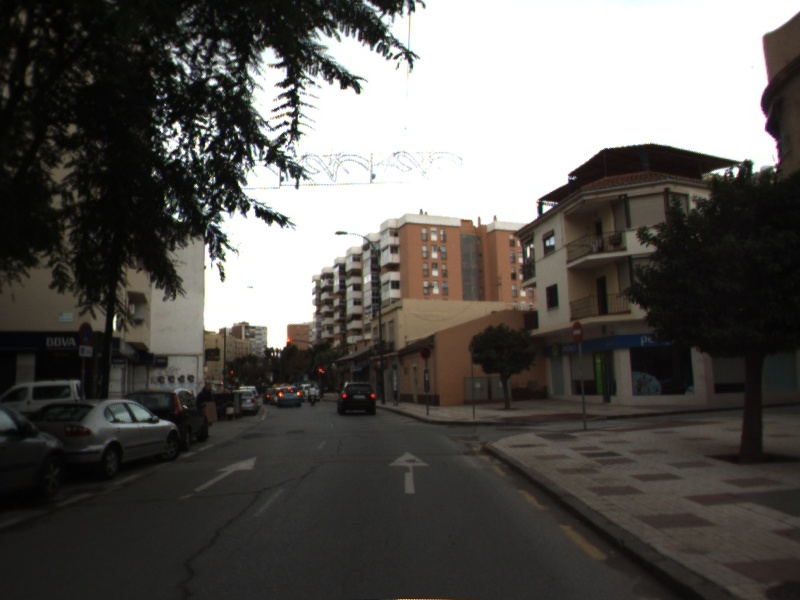STRAIGHT: (192, 455, 259, 494), (387, 449, 432, 497)
